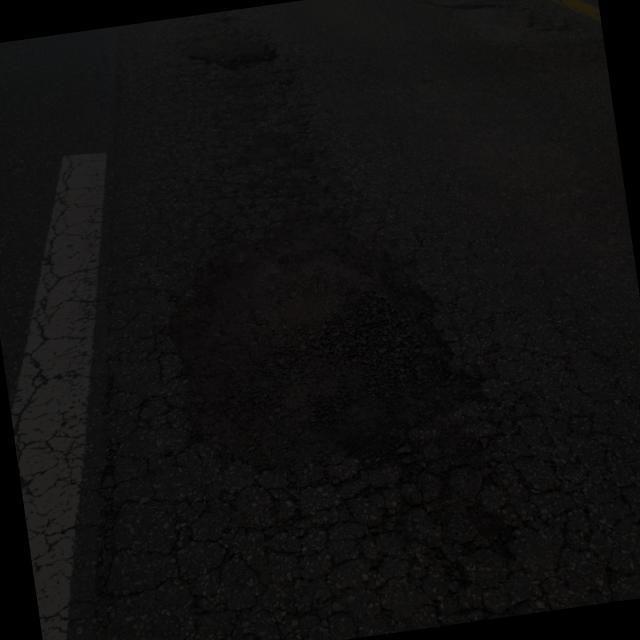pothole: (100, 138, 556, 516)
